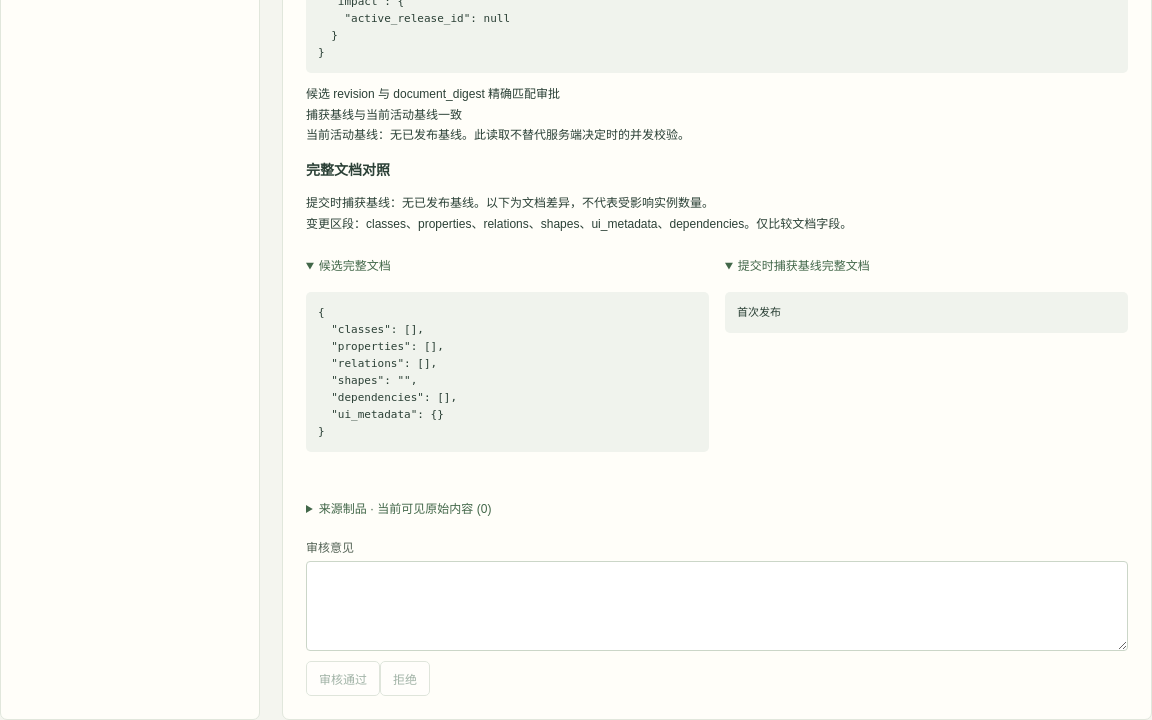
Test case: disables further decisions when server revalidation detects a later concurrent change
This screenshot has width=1152, height=720.
(page scrolled)
Check: the heading "完整文档对照" is shown, box 306,162 -> 390,178
In the text box labelled "审核意见": (717, 606) 306,561 -> 1128,651, type "Reviewed exact candidate"
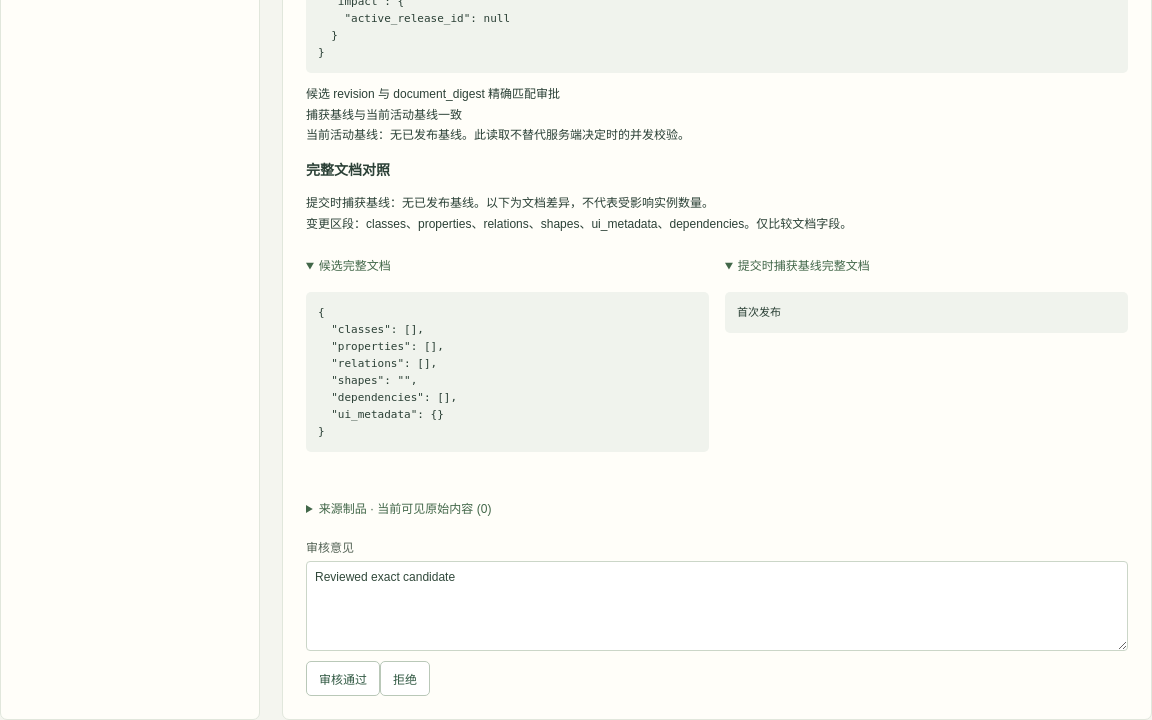
Click the button "审核通过": (343, 679) 306,661 -> 380,696
(page scrolled)
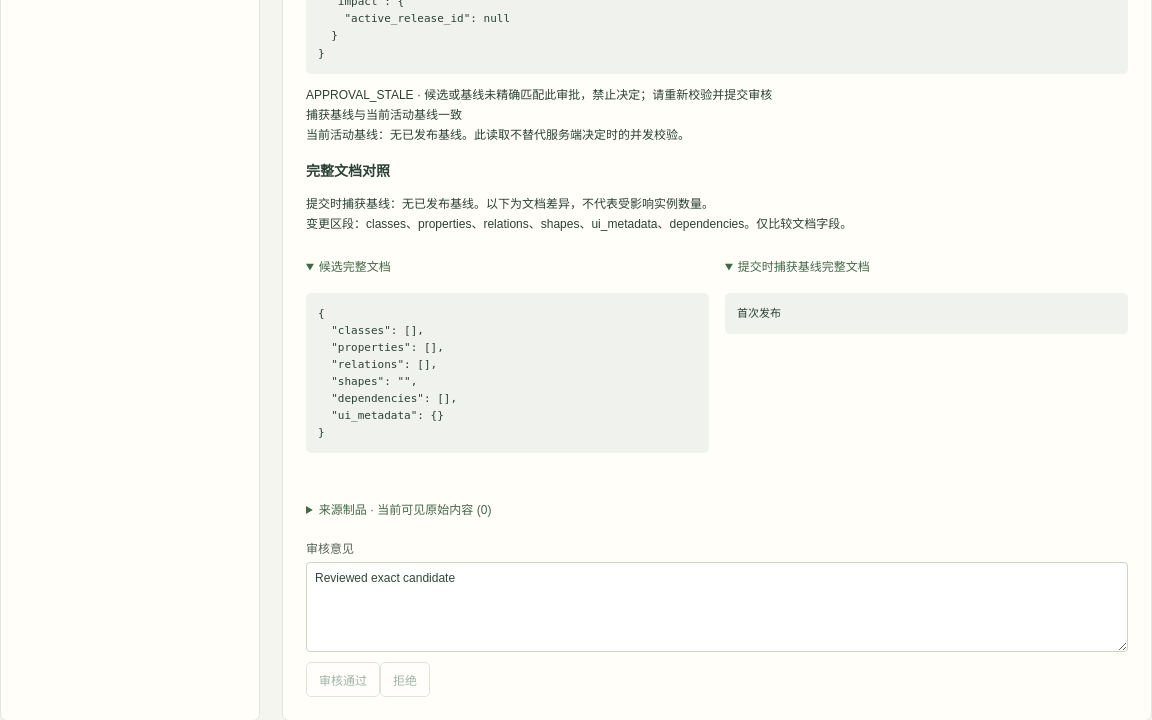
Check: the button "审核通过" is disabled, box 306,662 -> 380,697
Check: the button "拒绝" is disabled, box 380,662 -> 430,697
